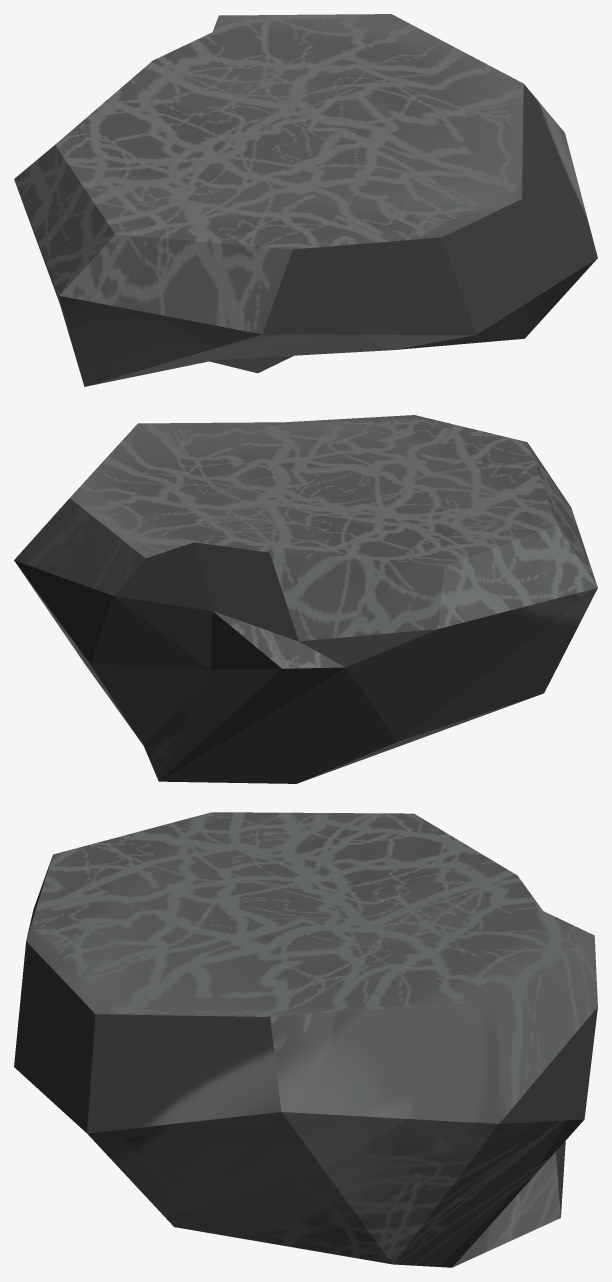
The model's file is kaya4.fbx.
The picture shows the model from 3 angles, top to bottom: view 1: azimuth 30°, elevation 25°; view 2: azimuth 150°, elevation 25°; view 3: azimuth 270°, elevation 25°; orthographic projection. The views are drawn at different scales.
Visible parts, largest first — view 1: Icosphere.005; view 2: Icosphere.005; view 3: Icosphere.005.
Part boxes in pixels (x1,y1,x2,y2): Icosphere.005: (14,14,597,386); Icosphere.005: (14,415,597,783); Icosphere.005: (14,812,597,1267).
Bounding box in the file's own units: 5.94 × 3.21 × 5.16.
1 material, 1 textured.
